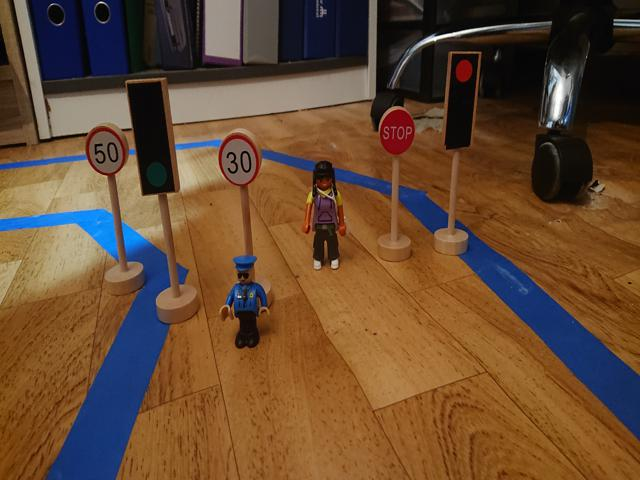30 speed sign: (218, 133, 259, 186)
50 speed sign: (85, 125, 126, 176)
green light: (133, 88, 171, 191)
person: (300, 161, 347, 272), (219, 255, 271, 348)
red light: (449, 53, 474, 145)
stop sign: (376, 106, 418, 155)
